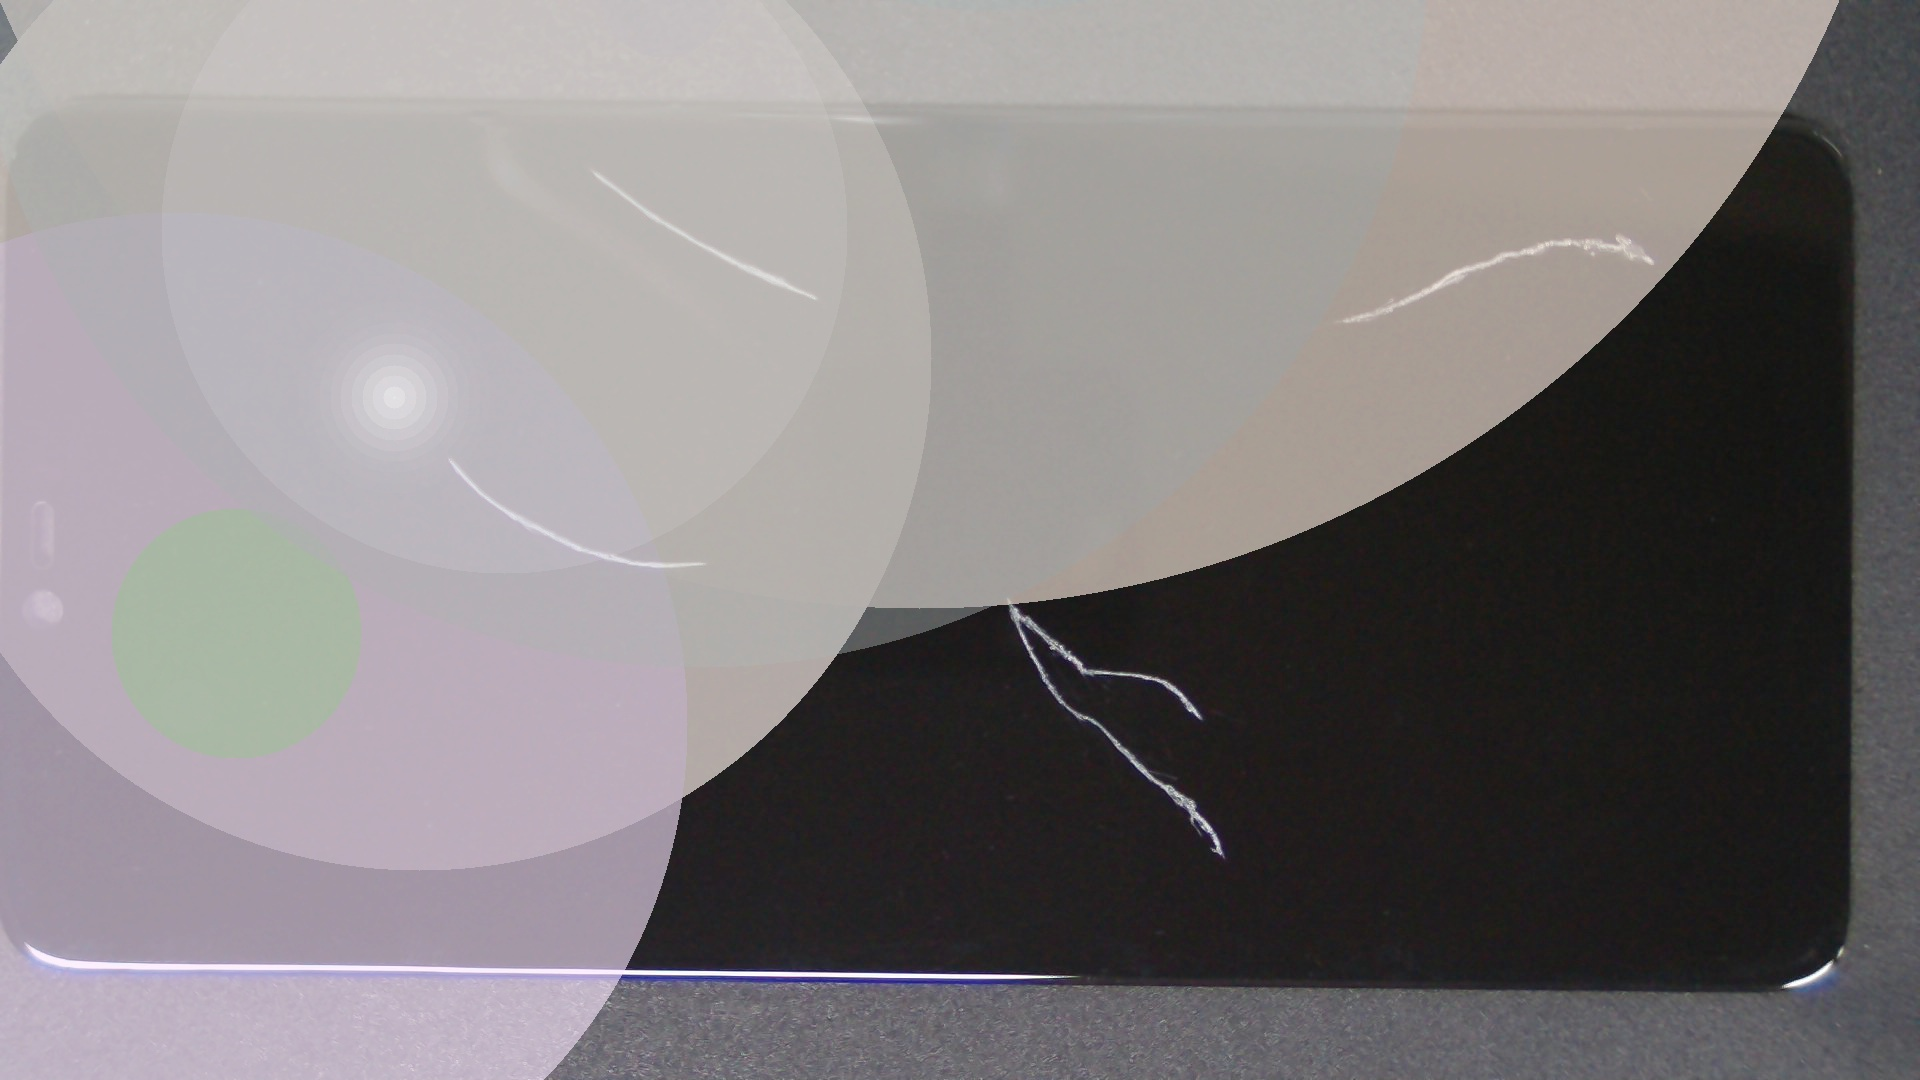oil: (505, 297, 1510, 895), (808, 115, 1920, 347), (225, 227, 674, 683), (294, 83, 884, 249)
